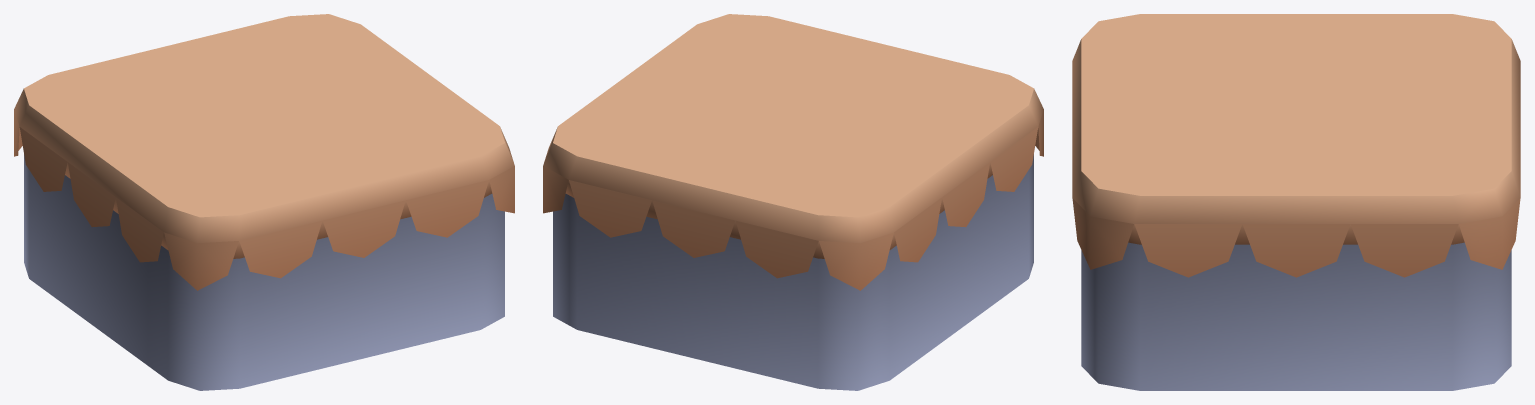
Rendered from block-grass-overhang-large.glb.
3 renders of one model, left to right at view 1: azimuth 30°, elevation 25°; view 2: azimuth 150°, elevation 25°; view 3: azimuth 270°, elevation 25°, orthographic. The views are drawn at different scales.
Visible parts, largest first — view 1: block-grass-overhang-large; view 2: block-grass-overhang-large; view 3: block-grass-overhang-large.
Boxes of the visible parts, x1,y1,x2,y2 form: block-grass-overhang-large: (14, 14, 514, 390); block-grass-overhang-large: (543, 14, 1043, 390); block-grass-overhang-large: (1072, 14, 1520, 390).
Size of the model in its own units: 2.08 by 1 by 2.08.
